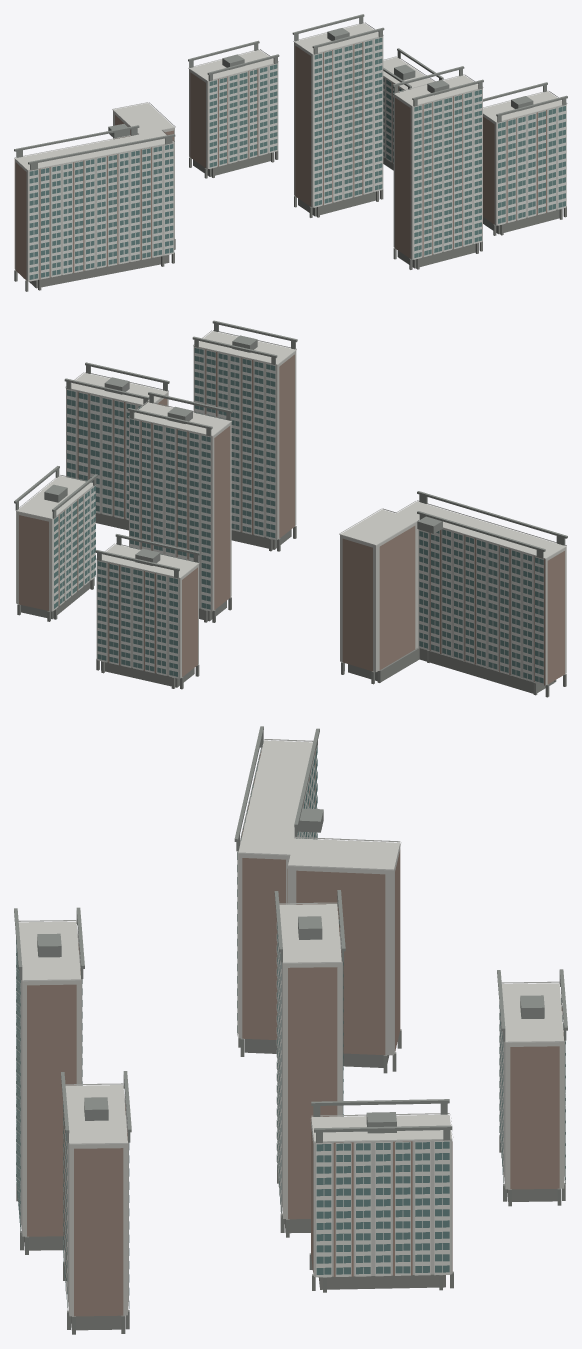
Rendered from representative-a13379001.glb.
3 views of the same model, one above another, from view 1: azimuth 30°, elevation 25°; view 2: azimuth 150°, elevation 25°; view 3: azimuth 270°, elevation 25° (orthographic). The views are drawn at different scales.
Visible parts, largest first — view 1: A13379001_trim001, A13379001_glass001, A13379001_wall001, A13379001_accent001, A13379001_roof001, A13379001_base001; view 2: A13379001_trim001, A13379001_glass001, A13379001_accent001, A13379001_wall001, A13379001_roof001, A13379001_base001; view 3: A13379001_accent001, A13379001_wall001, A13379001_trim001, A13379001_glass001, A13379001_roof001, A13379001_base001.
Part boxes in pixels (box(x1,y1,x2,y2)): A13379001_trim001: box(14, 22, 567, 281); A13379001_glass001: box(29, 37, 565, 279); A13379001_wall001: box(15, 23, 566, 281); A13379001_accent001: box(14, 42, 546, 280); A13379001_roof001: box(14, 14, 567, 170); A13379001_base001: box(14, 151, 566, 291); A13379001_trim001: box(15, 330, 566, 685); A13379001_glass001: box(54, 348, 543, 683); A13379001_accent001: box(19, 349, 564, 685); A13379001_wall001: box(16, 331, 566, 685); A13379001_roof001: box(14, 320, 567, 578); A13379001_base001: box(17, 513, 566, 697); A13379001_accent001: box(27, 749, 564, 1316); A13379001_wall001: box(18, 740, 564, 1316); A13379001_trim001: box(16, 739, 565, 1312); A13379001_glass001: box(16, 747, 565, 1308); A13379001_roof001: box(14, 726, 567, 1143); A13379001_base001: box(16, 1029, 565, 1334).
Size of the model in its own units: 191 by 65.15 by 114.
